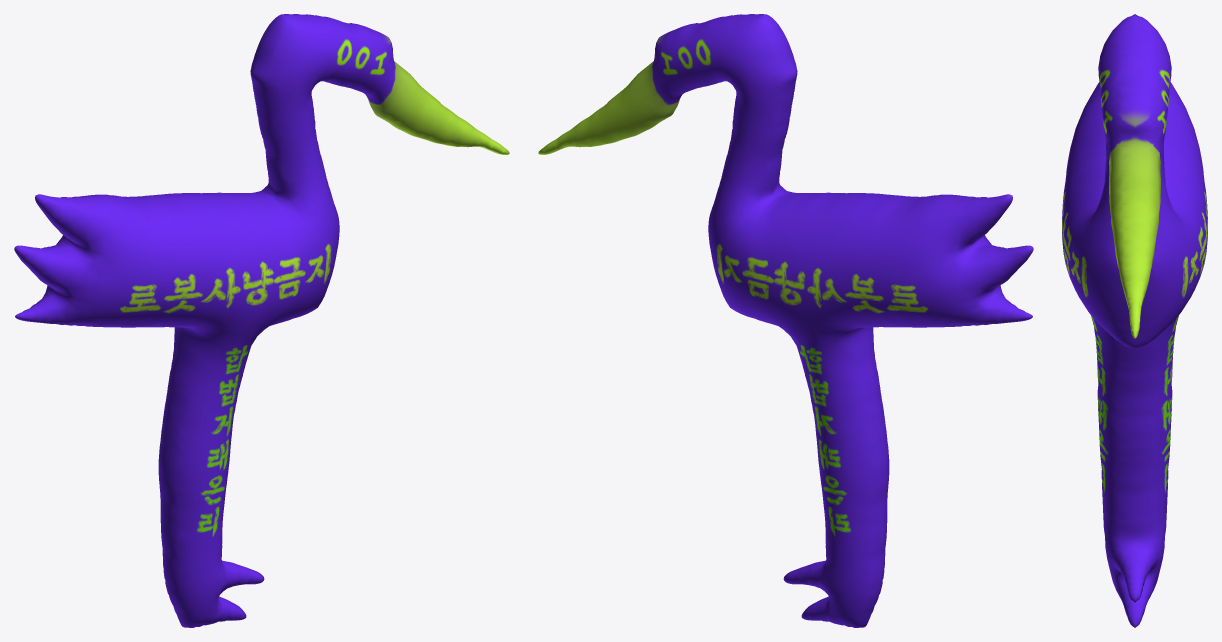
Rendered from Bird1-0.4095749d.glb.
3 renders of one model, left to right at view 1: azimuth 30°, elevation 25°; view 2: azimuth 150°, elevation 25°; view 3: azimuth 270°, elevation 25°, orthographic. The views are drawn at different scales.
Bounding box in the file's own units: 5.19 × 5.95 × 1.24.
1 material, 1 textured.
